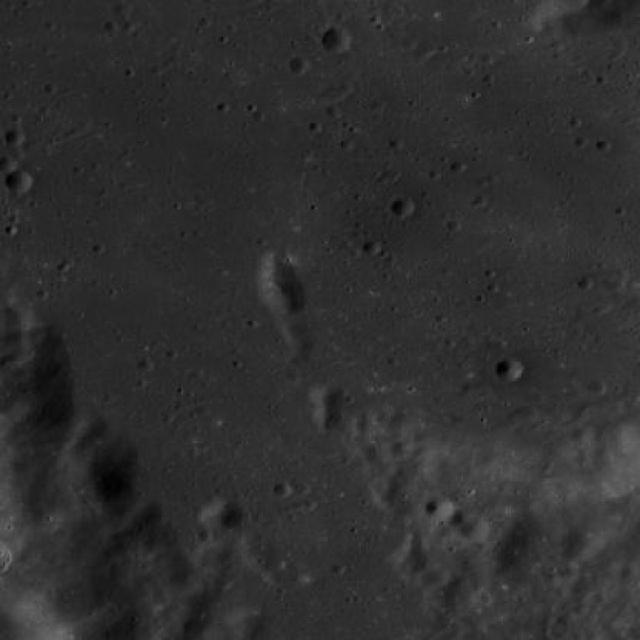crater: (286, 486, 409, 589), (494, 521, 578, 590), (211, 565, 274, 618), (562, 526, 602, 560), (23, 502, 63, 535), (169, 564, 206, 594), (324, 408, 356, 436), (320, 29, 351, 54), (459, 516, 488, 542), (422, 564, 451, 588), (424, 498, 452, 522), (4, 170, 30, 192), (496, 360, 522, 382), (412, 554, 438, 576), (224, 508, 250, 530), (184, 616, 210, 638), (449, 508, 474, 528), (390, 440, 412, 460), (390, 198, 413, 217), (518, 404, 540, 422), (572, 426, 594, 444), (4, 129, 24, 146), (288, 57, 308, 74), (0, 155, 17, 174), (112, 2, 132, 18), (557, 566, 577, 582), (586, 380, 606, 394), (0, 0, 2, 1)
